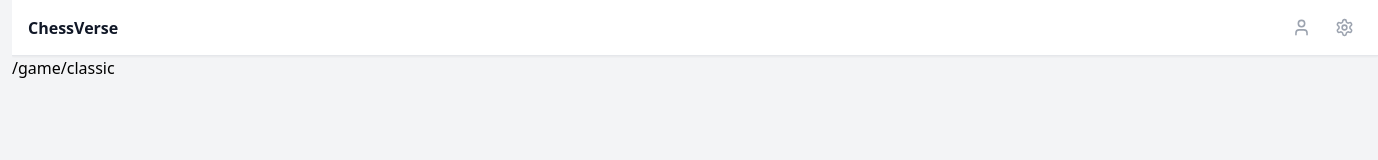
Test: NavBar — actions › the profile icon navigates to /profile
Click the button named "profile.title".
click(1302, 28)  # box [1284, 10, 1319, 45]
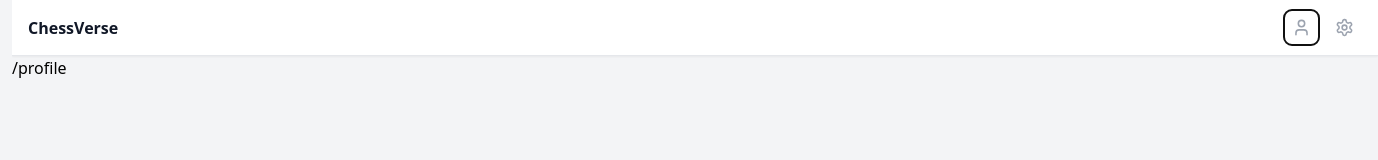
Check: the text with test id "location" reads "/profile", box [12, 57, 66, 79]
